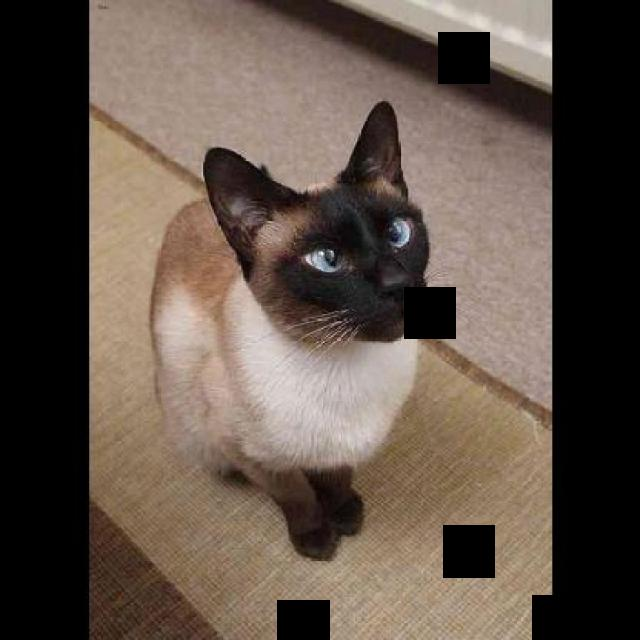unauthorized: (148, 98, 468, 560)
